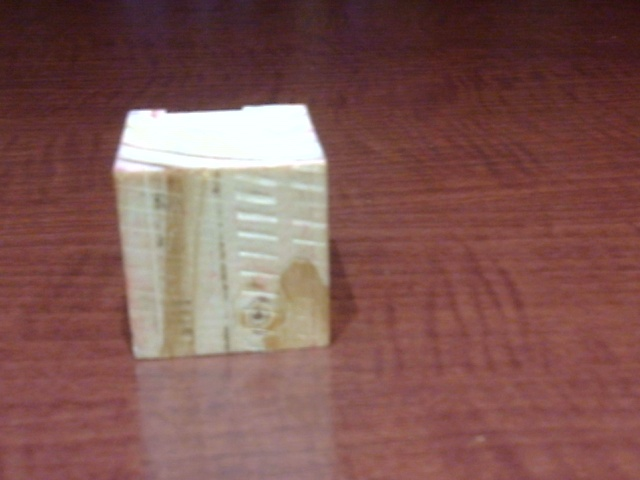NormalBlock: (112, 166, 336, 360)
